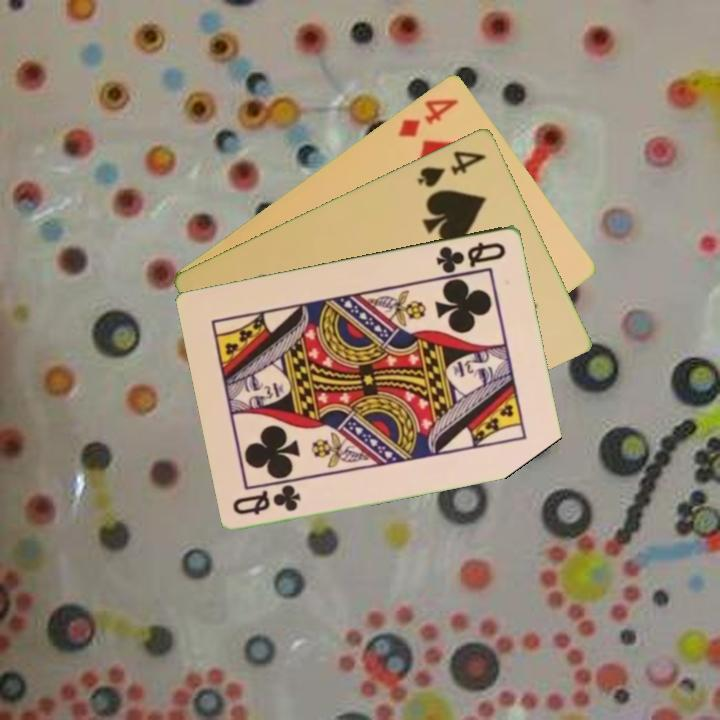4d: (395, 94, 461, 140)
4s: (414, 146, 490, 190)
Qc: (432, 237, 509, 276), (229, 482, 304, 517)
